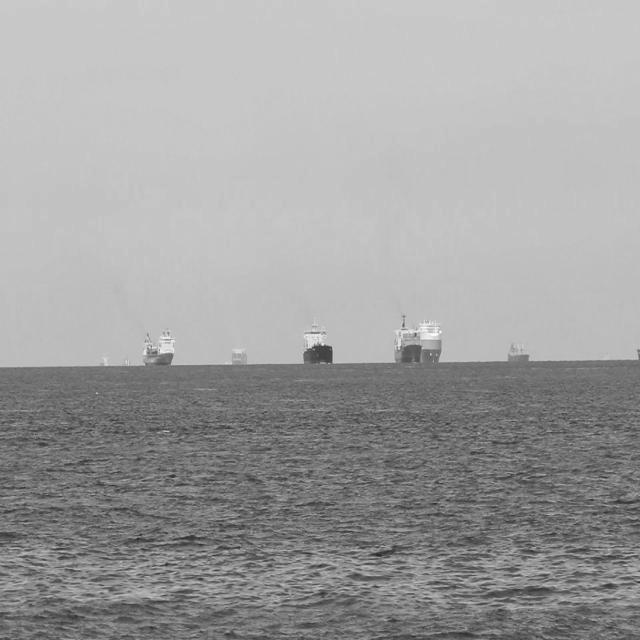ship: (300, 312, 333, 362), (391, 308, 422, 361), (140, 326, 178, 368), (418, 312, 442, 361), (504, 335, 528, 362), (227, 342, 249, 365), (98, 346, 110, 364), (122, 348, 132, 364)
